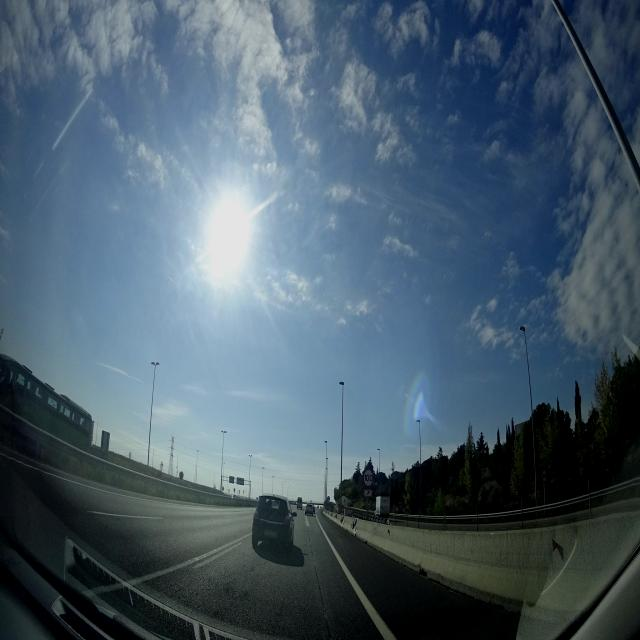car: (251, 493, 294, 553), (305, 503, 314, 516), (297, 496, 303, 510)
